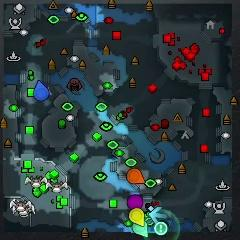Other: (155, 221, 168, 236)
p1: (34, 81, 49, 101)
p2: (133, 221, 148, 237)
p3: (128, 194, 143, 210)
p4: (129, 207, 144, 227)
p5: (126, 168, 146, 184)
x3: (150, 207, 166, 222)
